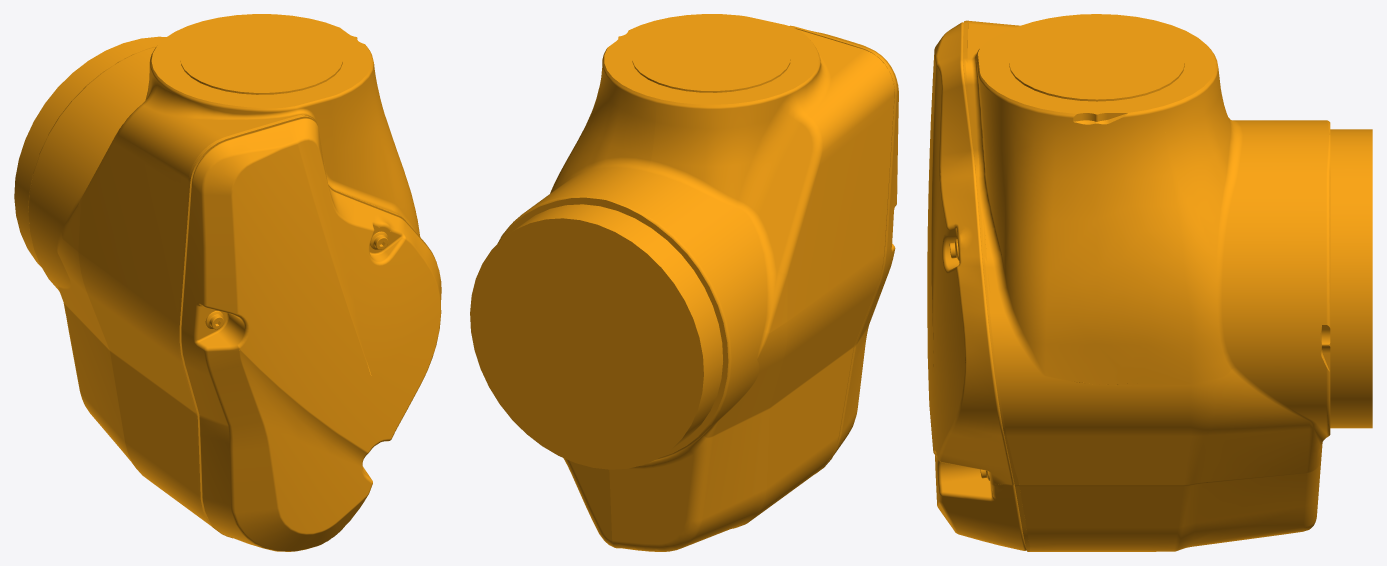
The picture shows the model from 3 angles, left to right: view 1: azimuth 30°, elevation 25°; view 2: azimuth 150°, elevation 25°; view 3: azimuth 270°, elevation 25°; orthographic projection. The views are drawn at different scales.
Visible parts, largest first — view 1: PART_J3_from_XG0000074A; view 2: PART_J3_from_XG0000074A; view 3: PART_J3_from_XG0000074A.
Boxes of the visible parts, x1,y1,x2,y2 form: PART_J3_from_XG0000074A: (14,14,441,551); PART_J3_from_XG0000074A: (470,14,898,551); PART_J3_from_XG0000074A: (927,14,1372,551).
Bounding box in the file's own units: 0.1499 × 0.2024 × 0.2441.
